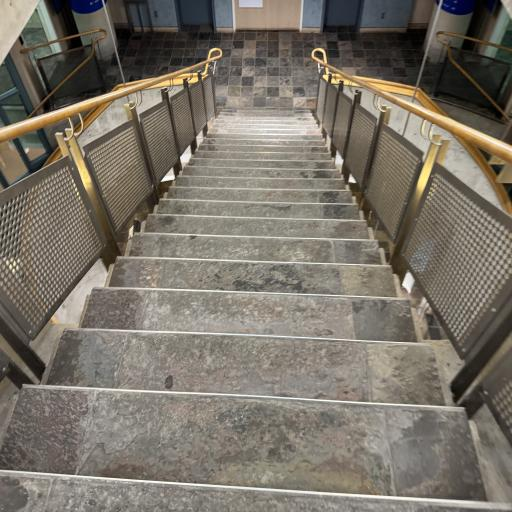Stairs: (0, 107, 508, 512), (48, 328, 444, 406)
